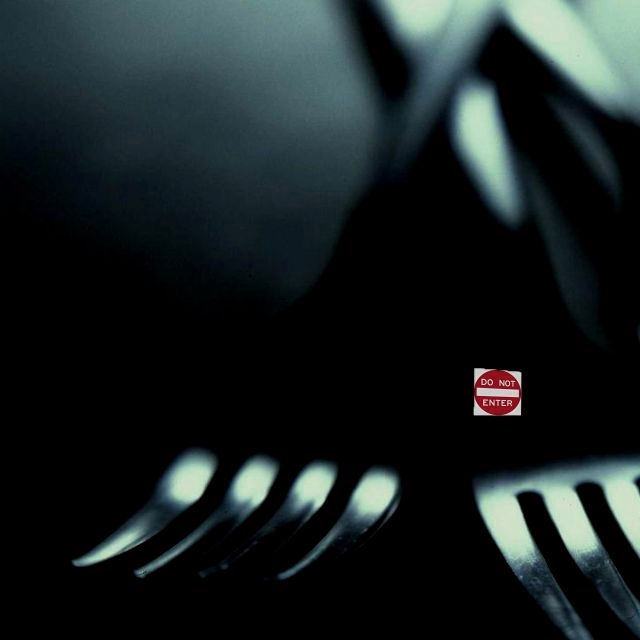DO_NOT_ENTER: (473, 367, 522, 416)
